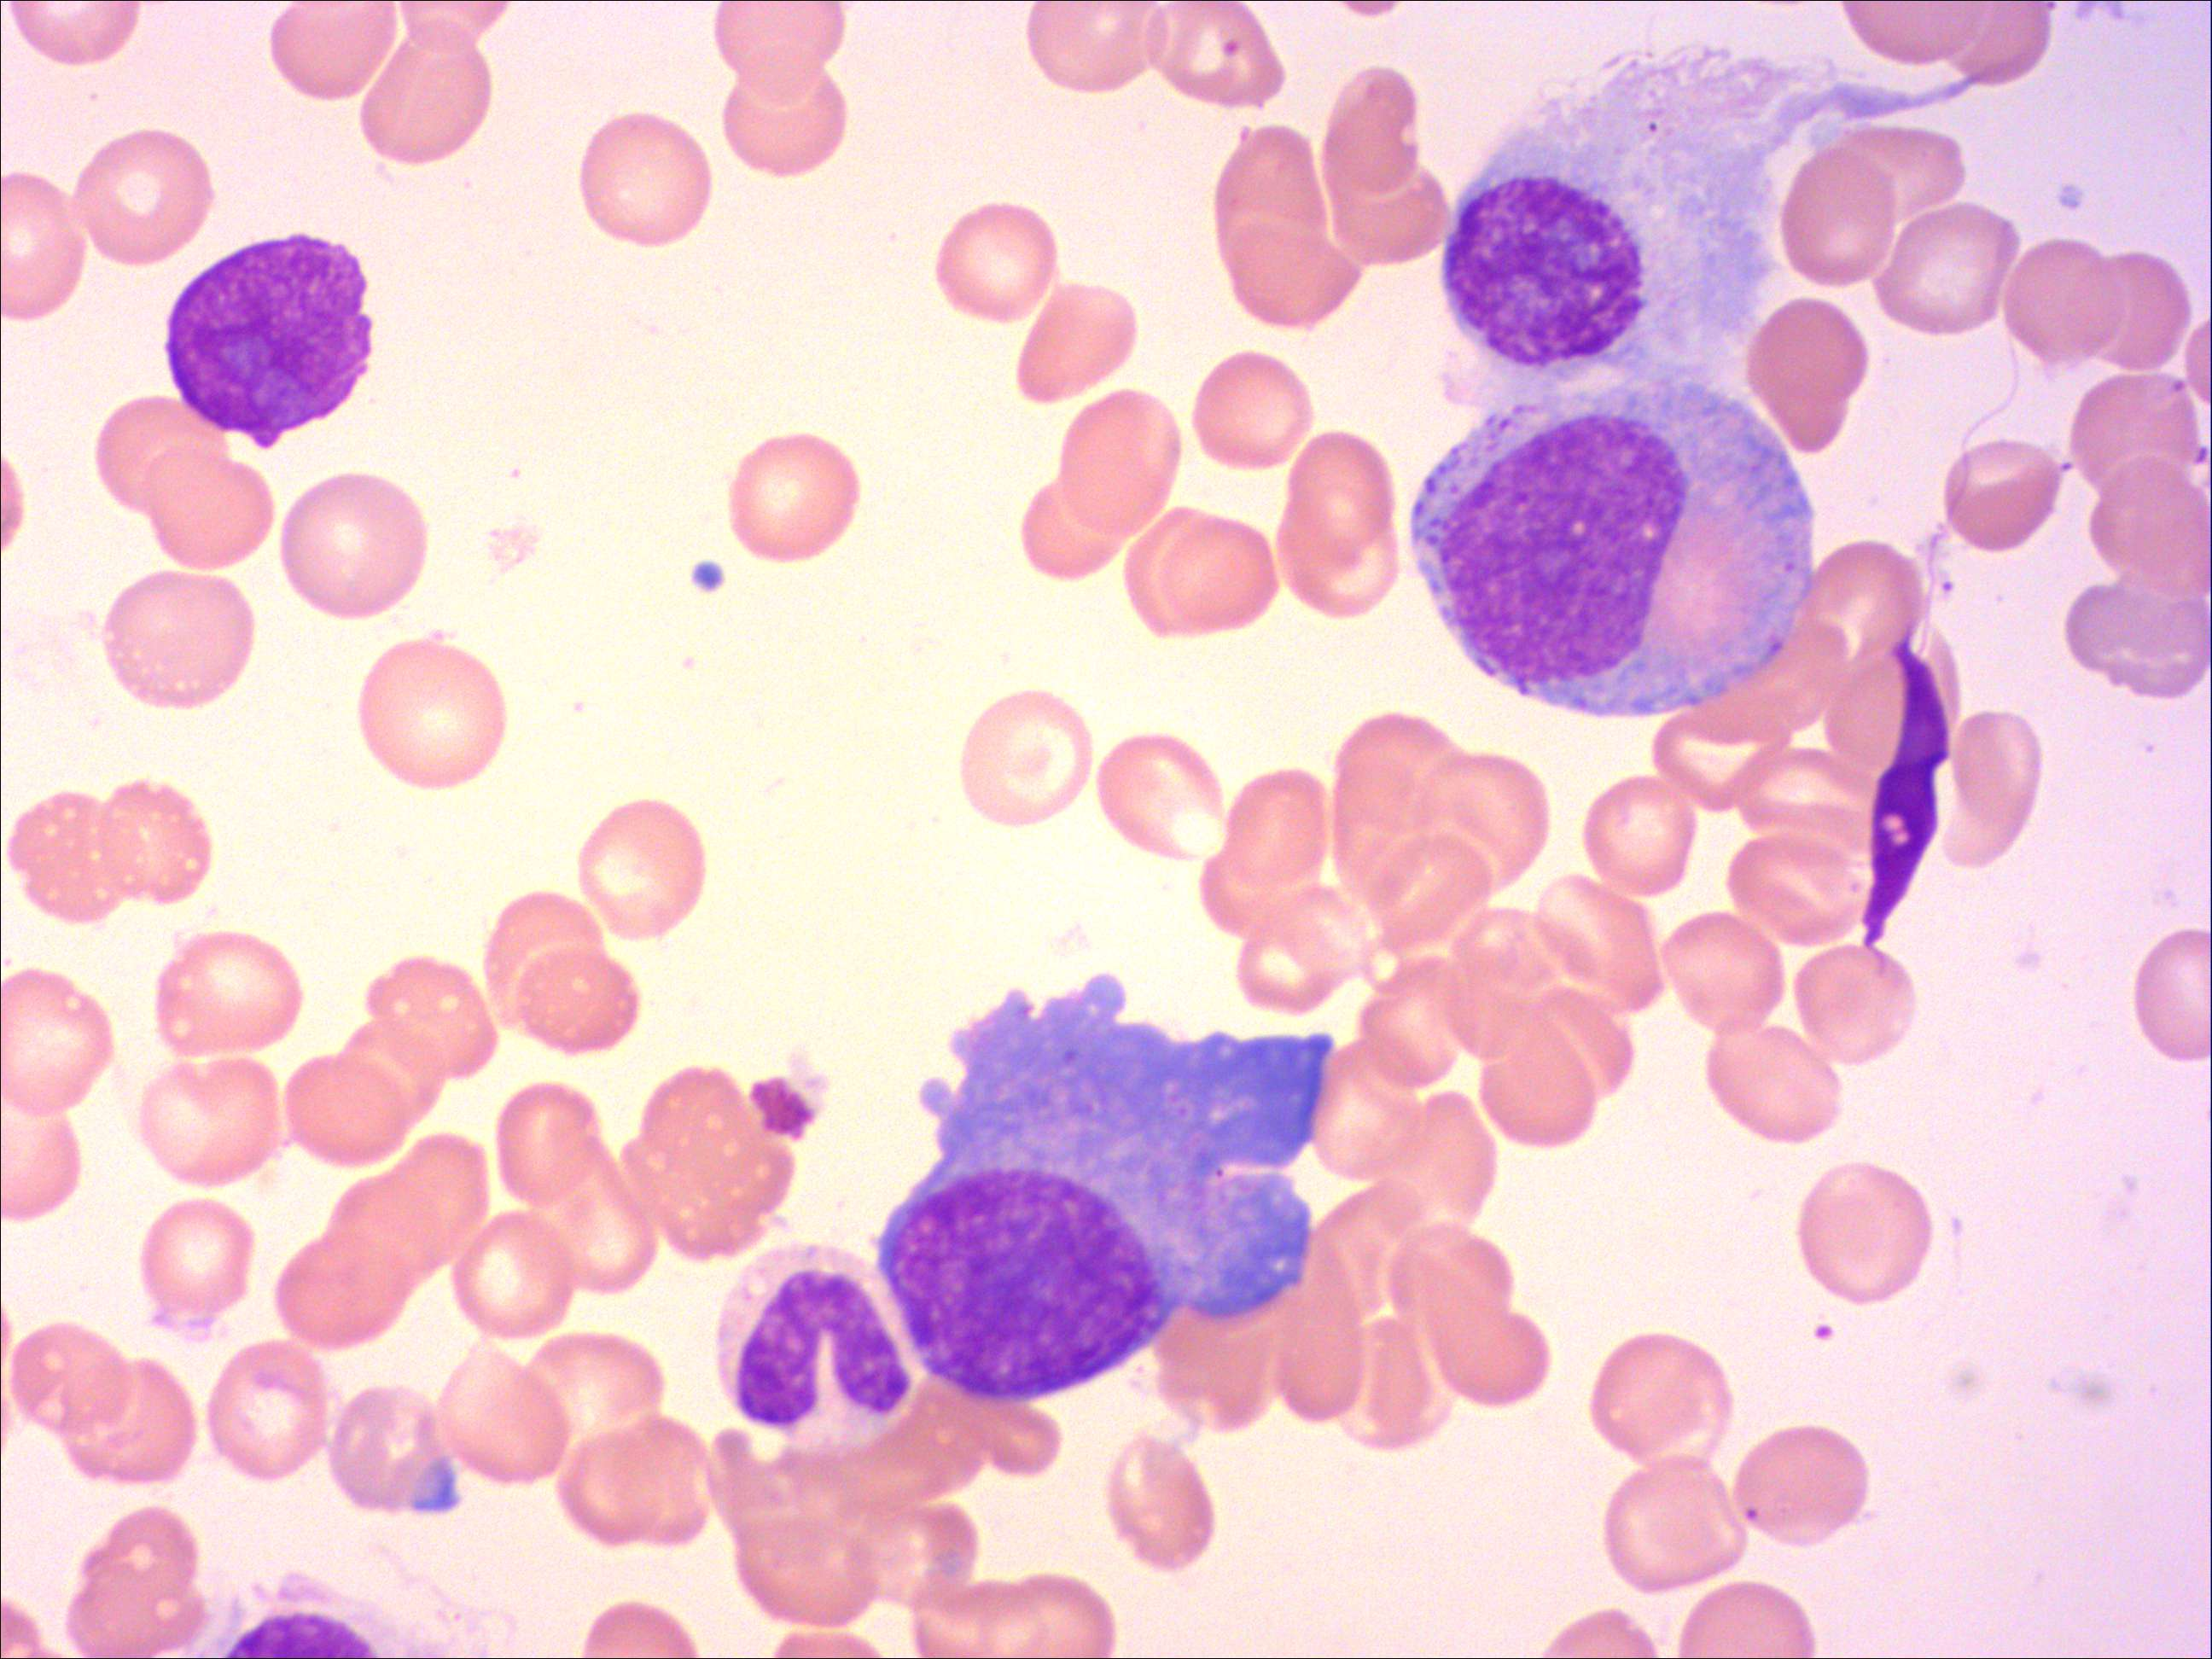3: (1404, 378, 1822, 727)
5: (709, 1236, 935, 1466)
51: (871, 969, 1345, 1412), (1433, 42, 1810, 390)
x: (155, 227, 383, 457)
